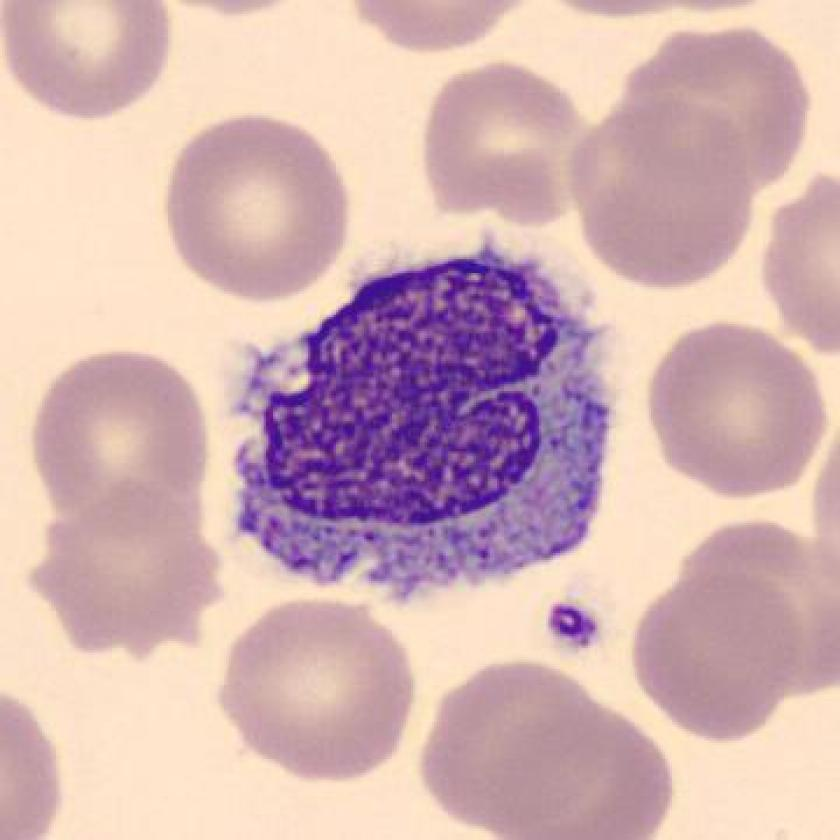monocyte: (206, 207, 643, 623)
